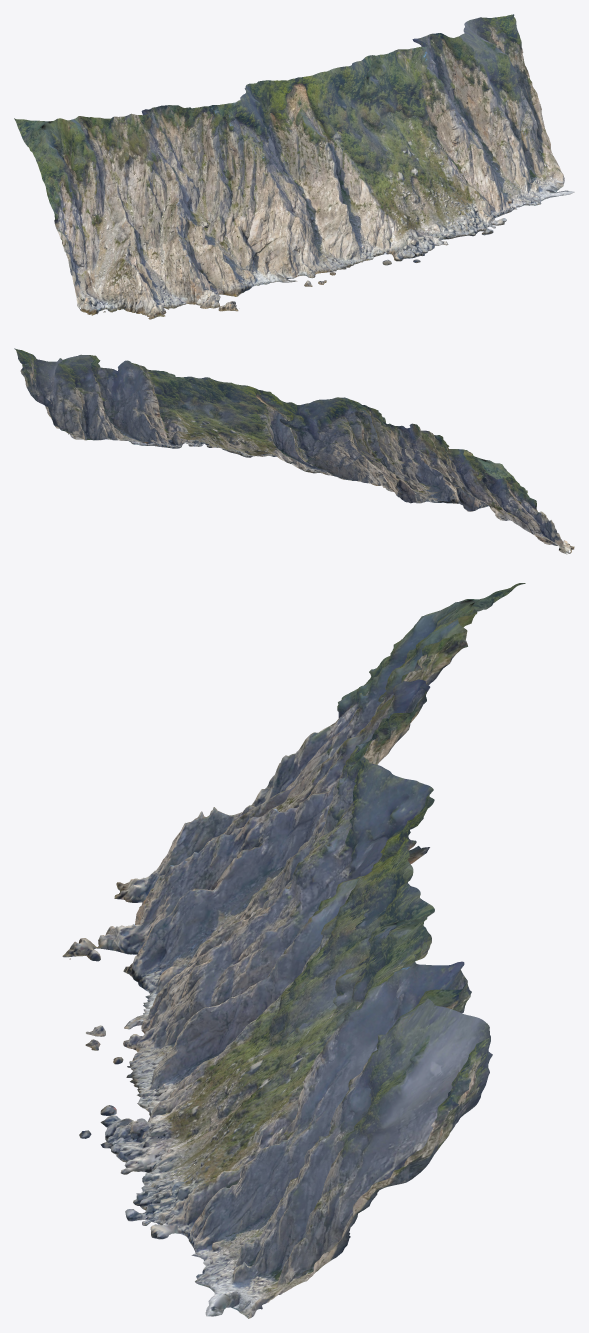
Rendered from rocky_coast_of_the_sea_of_japan_n9__fragment.glb.
3 renders of one model, top to bottom at view 1: azimuth 30°, elevation 25°; view 2: azimuth 150°, elevation 25°; view 3: azimuth 270°, elevation 25°, orthographic. The views are drawn at different scales.
Parts seen in each view (by area): view 1: Object_2; view 2: Object_2; view 3: Object_2.
Boxes of the visible parts, x1,y1,x2,y2 form: Object_2: [14, 14, 574, 319]; Object_2: [14, 348, 574, 554]; Object_2: [62, 583, 525, 1318].
Size of the model in its own units: 2.76 by 0.7242 by 1.12.
Materials: 1 (1 with a texture image).
